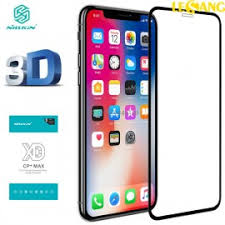iphone: (76, 1, 159, 221)
iphone10: (76, 1, 159, 220)
